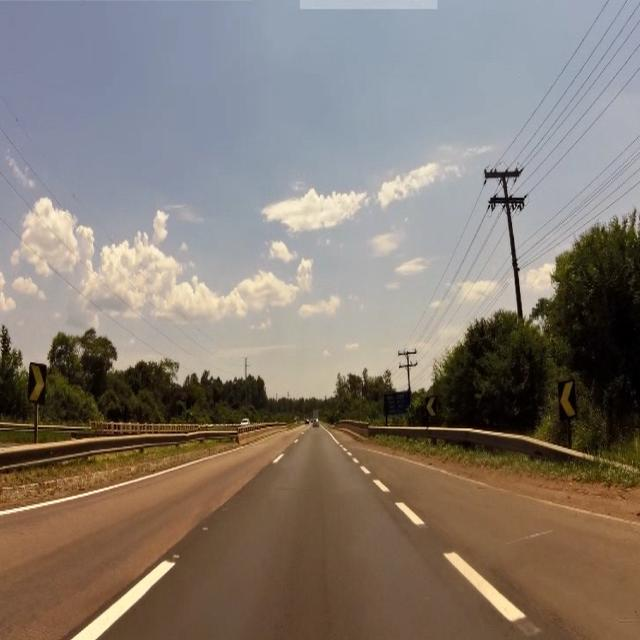Del: (555, 379, 578, 420), (28, 360, 48, 407), (423, 396, 438, 419)
LOC-6: (385, 393, 411, 417)
